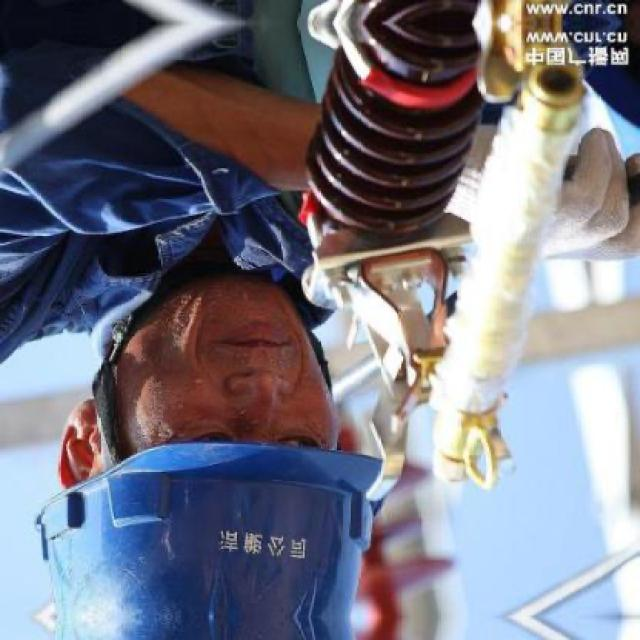con casco: (31, 295, 317, 640)
